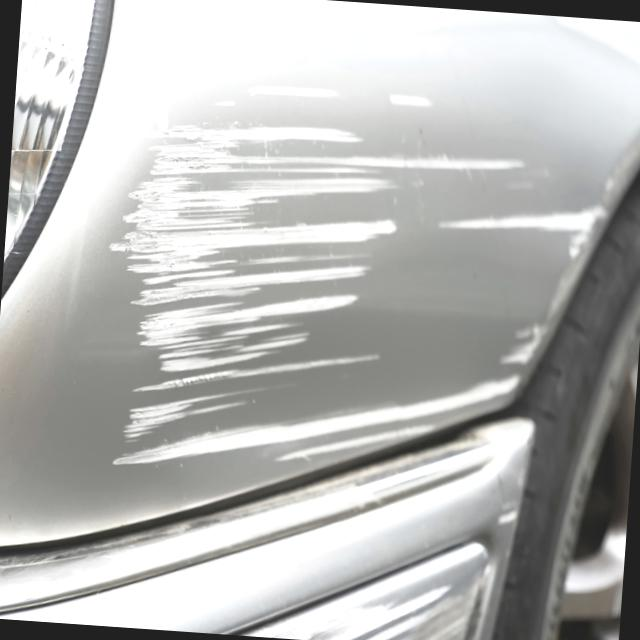Rayure: (90, 48, 617, 513)
